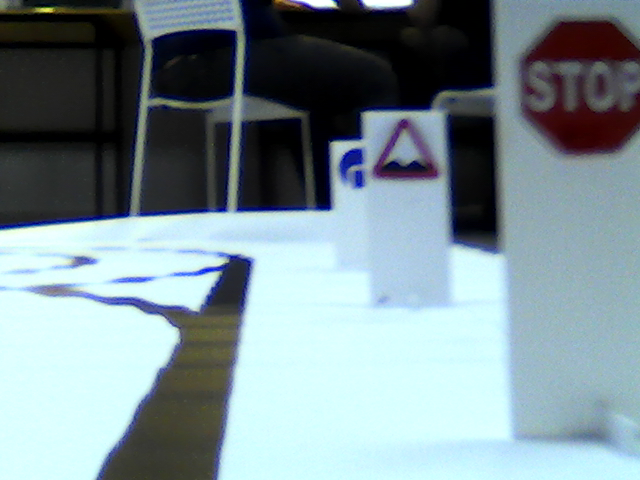Nerov: (371, 121, 442, 179)
Stop: (517, 13, 640, 157)
